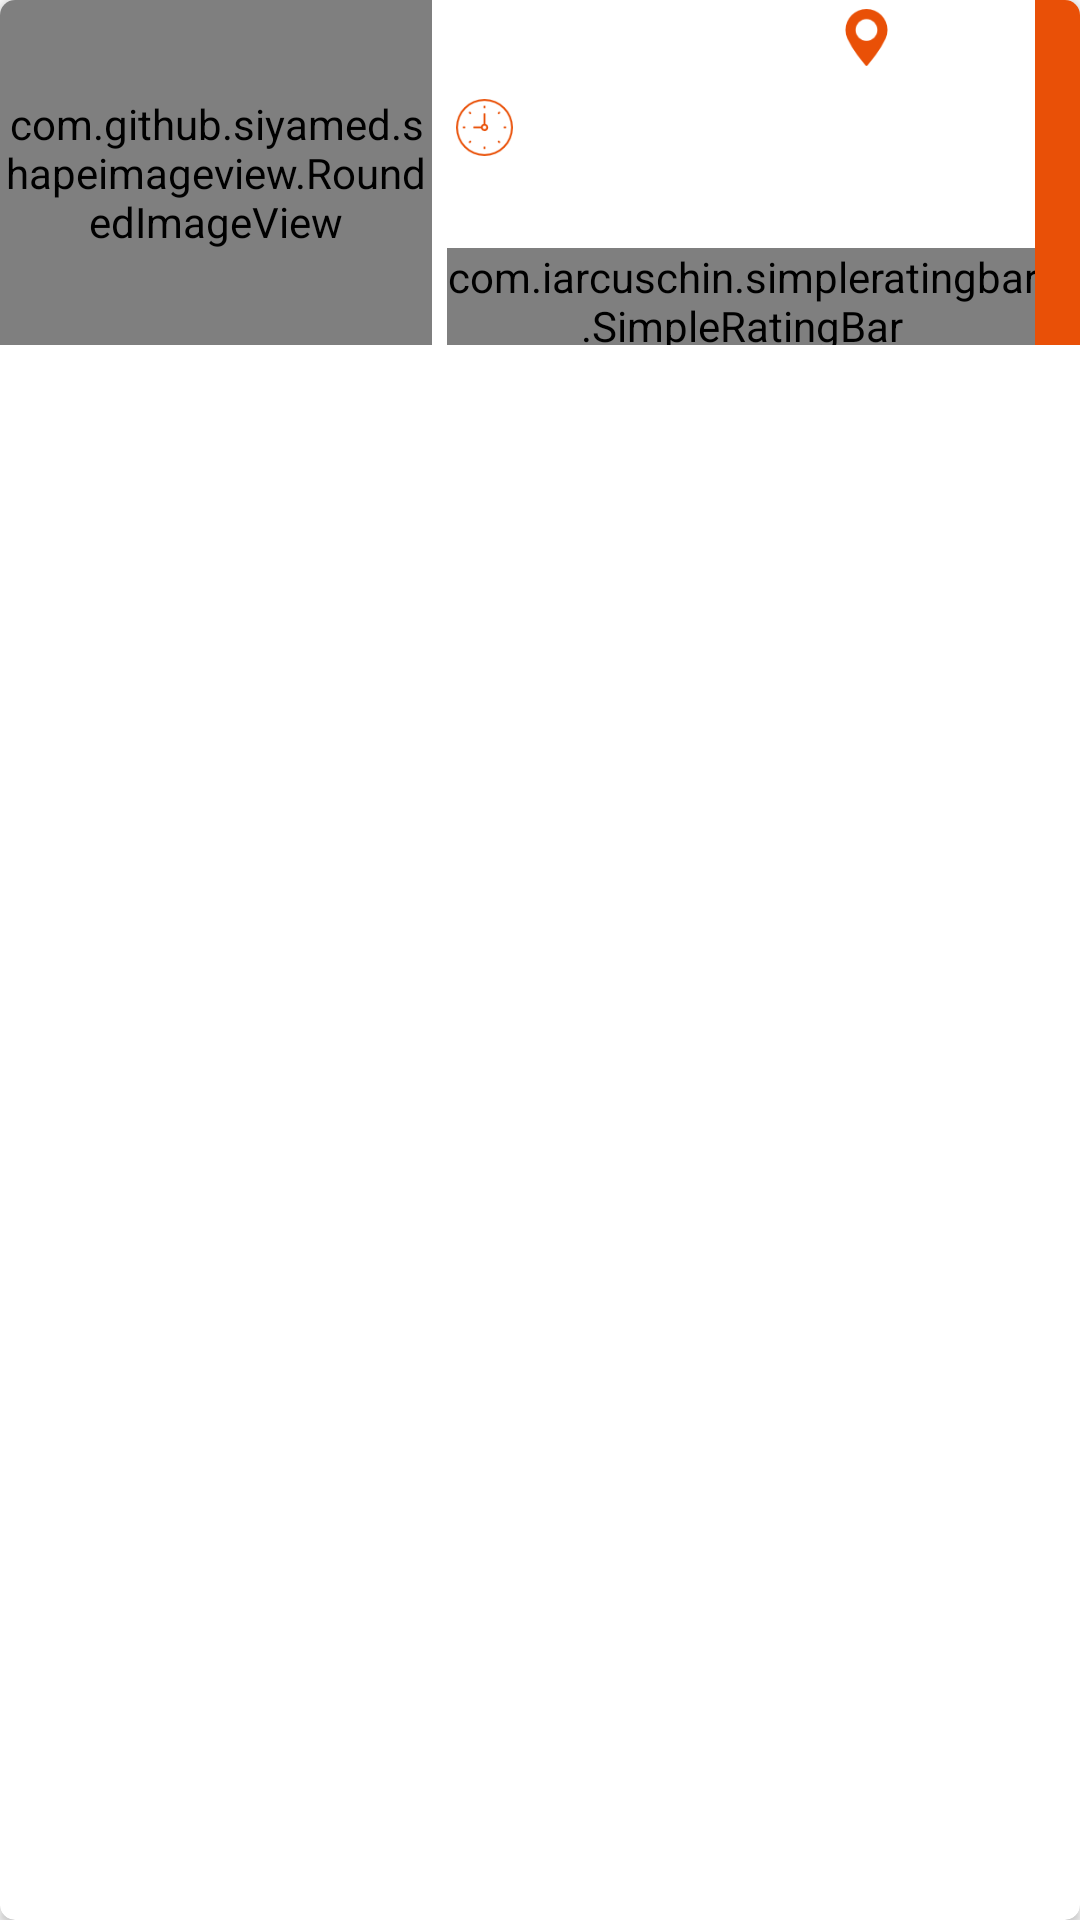

Icons on this 1080px x 1920px Android screen, each with its box as (x1, y1, x2, y2):
clock: (456, 99, 513, 156)
map: (845, 9, 888, 66)
